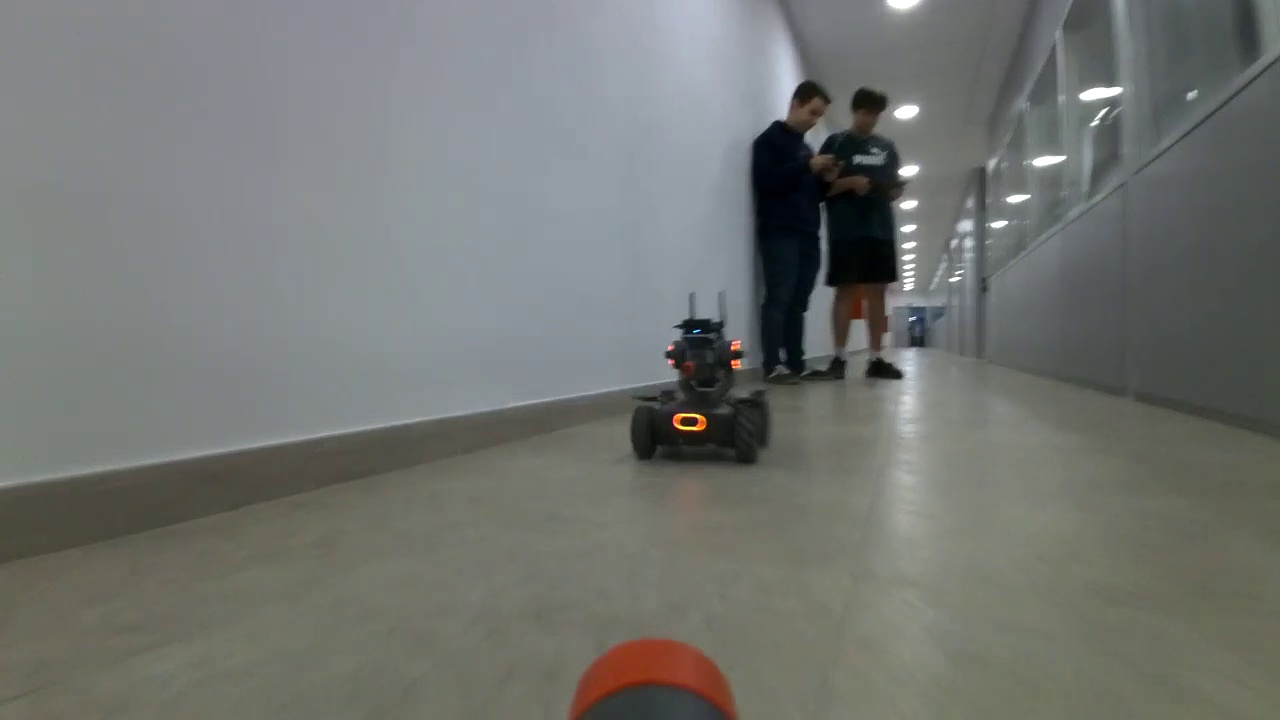robot: (630, 320, 770, 463)
